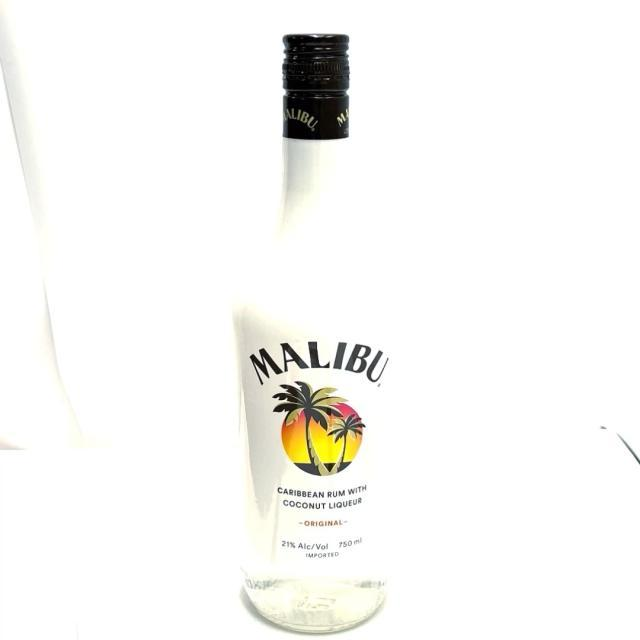Malibu Caribbean Rum with Coconut Flavored Liqueur 750mL 42 Proof: (233, 35, 398, 637), (230, 258, 399, 636)
